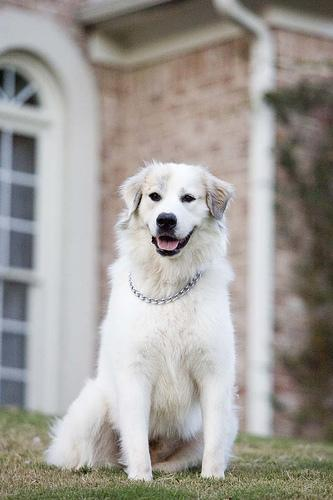Great_Pyrenees: (50, 160, 239, 481)
